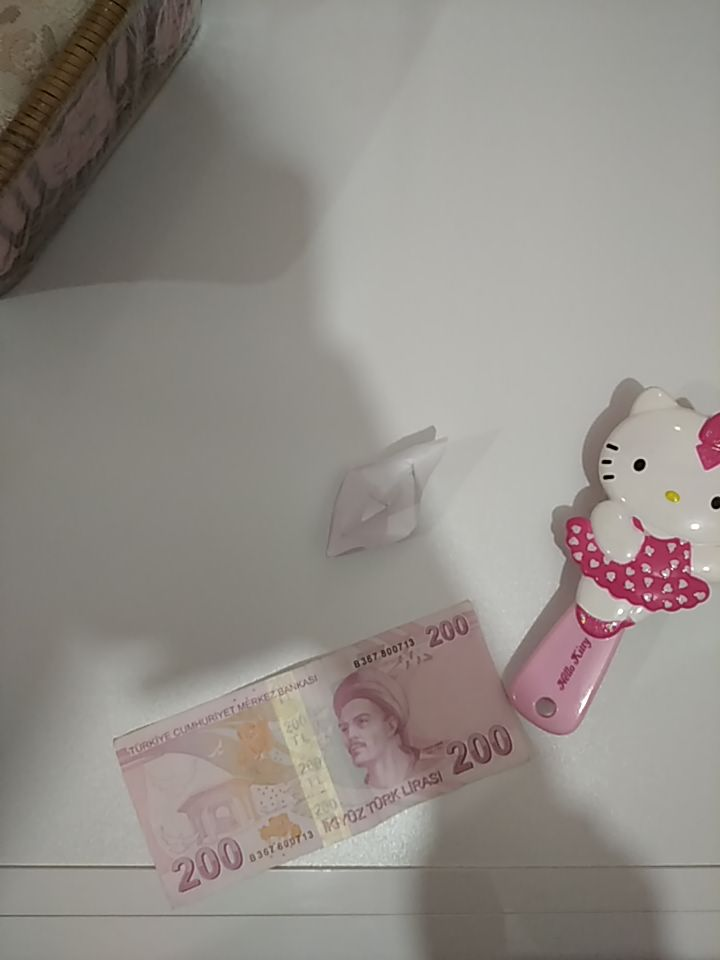200TL: (111, 601, 537, 910)
